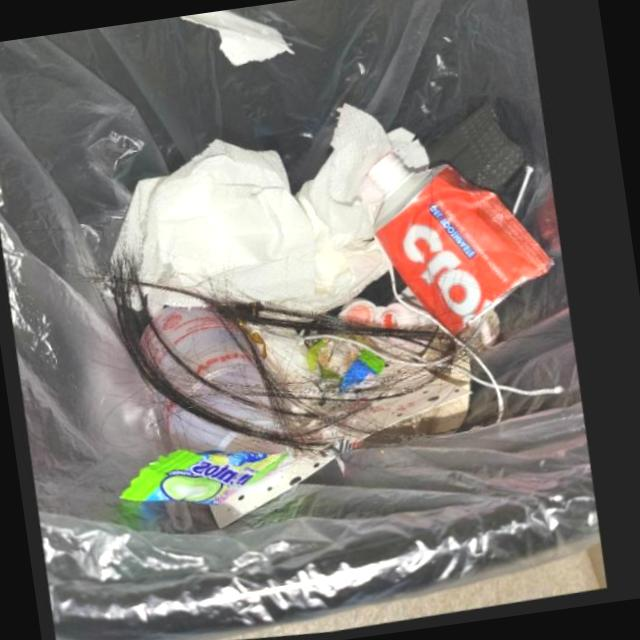bao_bi_thuc_pham: (129, 453, 300, 515)
carton: (219, 356, 482, 532)
chai_nhua: (149, 310, 301, 458), (342, 297, 439, 357)
giay: (132, 106, 435, 315)
hop_nhua: (374, 154, 559, 338)
khau_trang: (429, 102, 529, 194)
